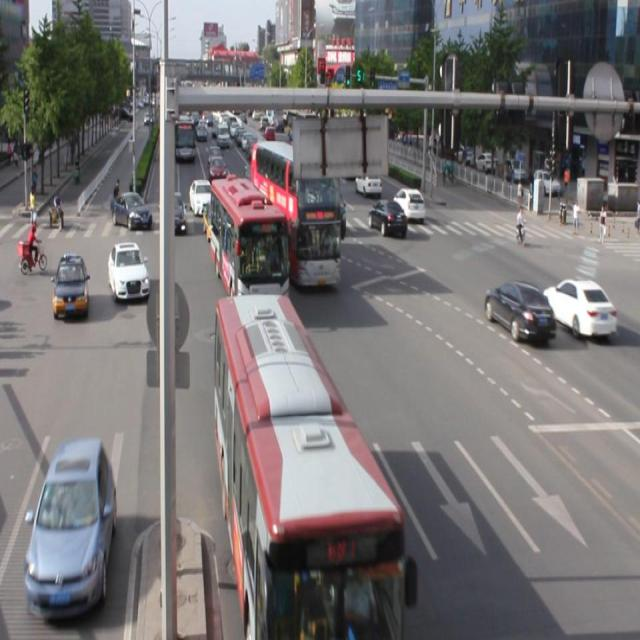car: (27, 438, 120, 612), (482, 280, 554, 344), (541, 278, 614, 335), (109, 243, 150, 300), (370, 198, 406, 236)
van: (215, 292, 405, 640), (253, 142, 340, 284), (210, 178, 288, 306)
